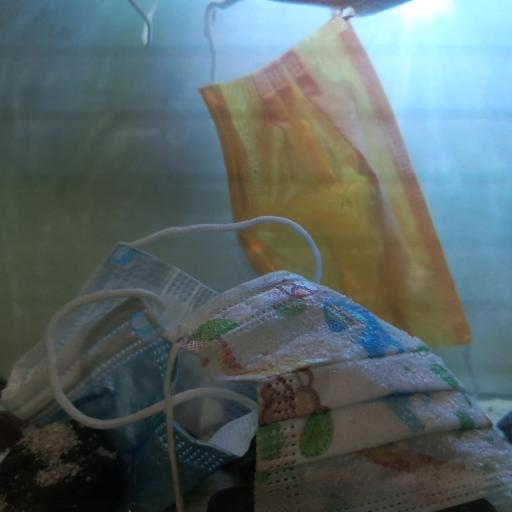mask: (196, 3, 476, 371), (1, 213, 324, 512), (162, 270, 512, 512)
